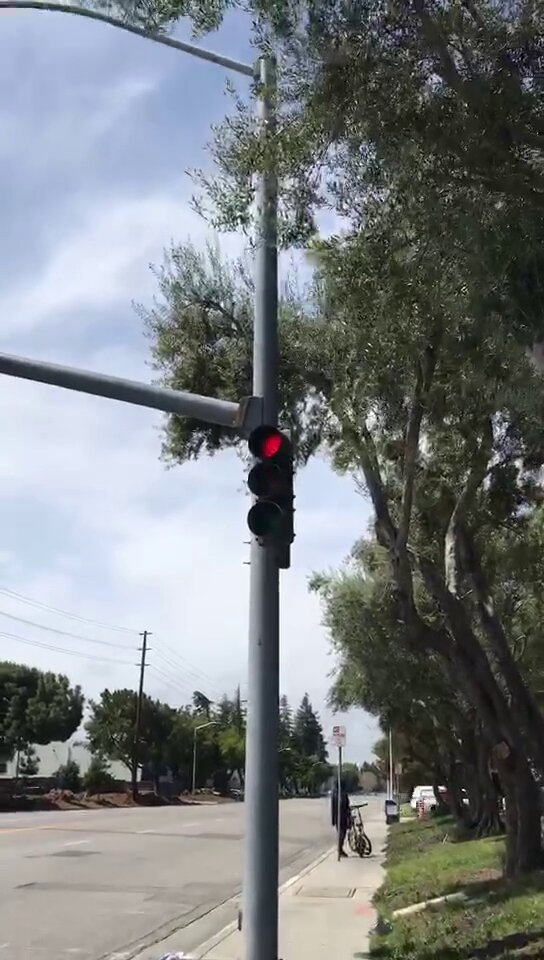red_light: (246, 427, 289, 540)
